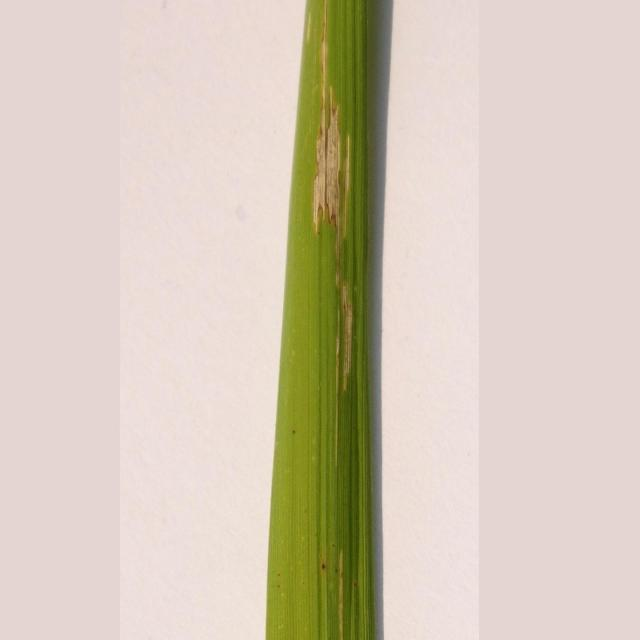Bacterial leaf blight: (307, 2, 365, 242), (321, 256, 374, 410), (331, 544, 358, 640)
